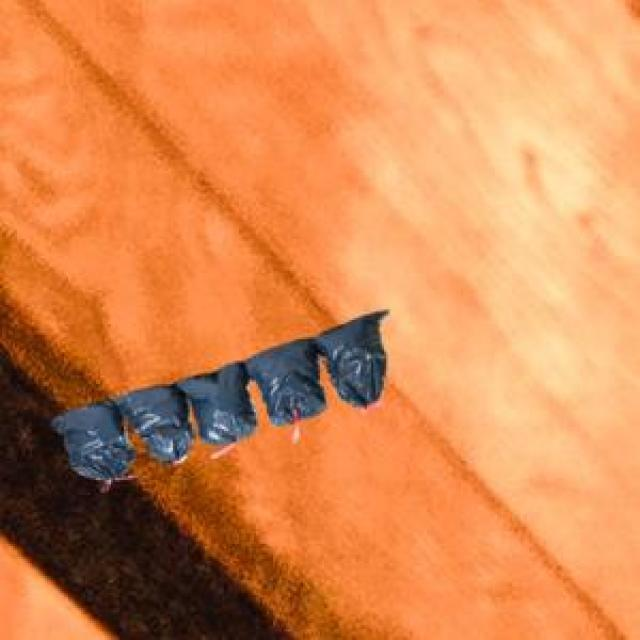miscellaneous trash: (47, 307, 384, 478)
